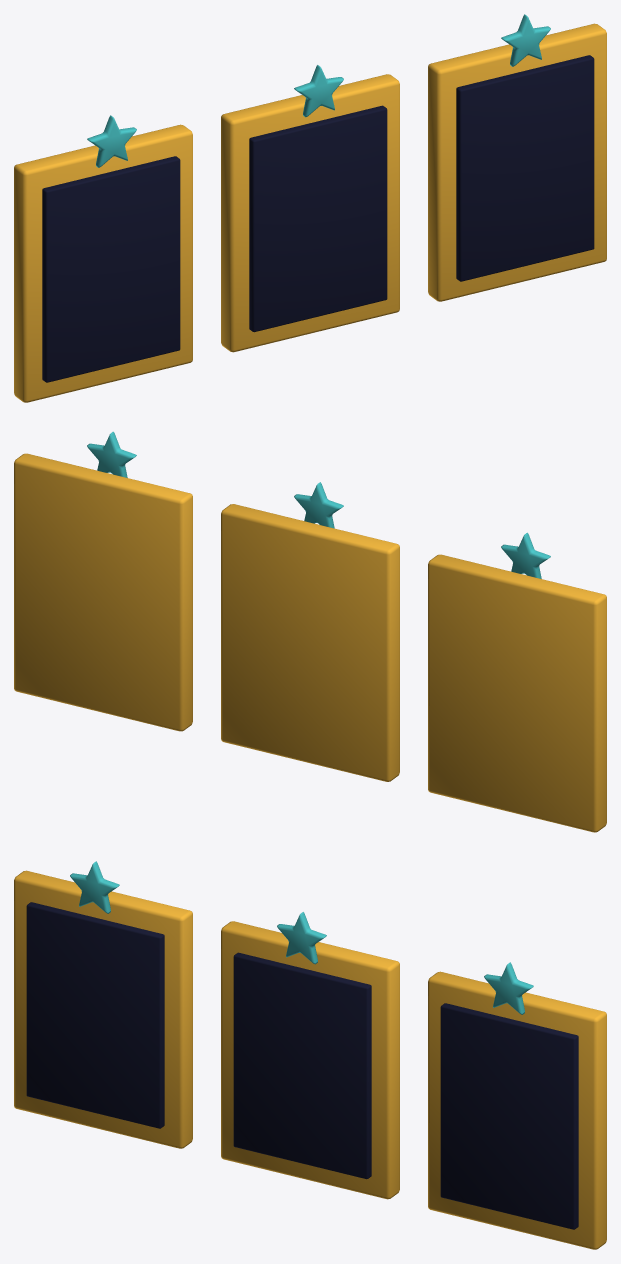
The model's file is r020_sky_lagoon_painting_displays_painting_display.glb.
3 views of the same model, one above another, from view 1: azimuth 30°, elevation 25°; view 2: azimuth 150°, elevation 25°; view 3: azimuth 330°, elevation 25° (orthographic).
Parts seen in each view (by area): view 1: r020_sky_lagoon_painting_displays_painting_display.001; view 2: r020_sky_lagoon_painting_displays_painting_display.001; view 3: r020_sky_lagoon_painting_displays_painting_display.001.
Part boxes in pixels (x1,y1,x2,y2): r020_sky_lagoon_painting_displays_painting_display.001: [14, 14, 606, 402]; r020_sky_lagoon_painting_displays_painting_display.001: [14, 431, 606, 832]; r020_sky_lagoon_painting_displays_painting_display.001: [14, 861, 606, 1249].
Size of the model in its own units: 7.9 by 3.49 by 0.4.
